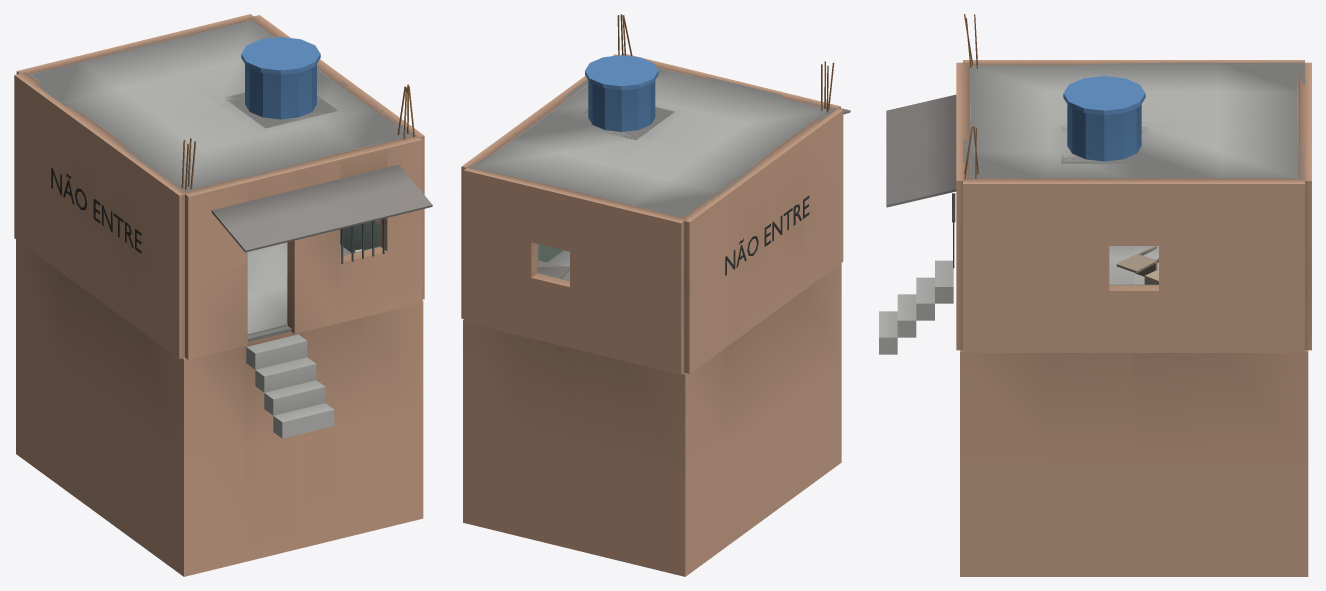
File: barraco_3.glb
3 renders of one model, left to right at view 1: azimuth 30°, elevation 25°; view 2: azimuth 150°, elevation 25°; view 3: azimuth 270°, elevation 25°, orthographic. The views are drawn at different scales.
Visible parts, largest first — view 1: longe, ext, detalhe, dentro; view 2: longe, ext, detalhe, dentro; view 3: longe, ext, detalhe, dentro, mesa_b_cadeira1.
Part boxes in pixels (x1,y1,x2,y2): longe: (16,19,423,576); ext: (14,14,424,359); detalhe: (51,37,432,438); dentro: (25,20,412,341); longe: (463,67,841,576); ext: (461,53,843,374); detalhe: (577,14,850,275); dentro: (482,67,823,280); longe: (960,62,1308,576); ext: (956,60,1311,352); detalhe: (879,14,1147,354); dentro: (968,65,1302,285); mesa_b_cadeira1: (1116,246,1158,276).
Size of what is drawn, in the model's own units: 4.73 by 7.93 by 6.96.
